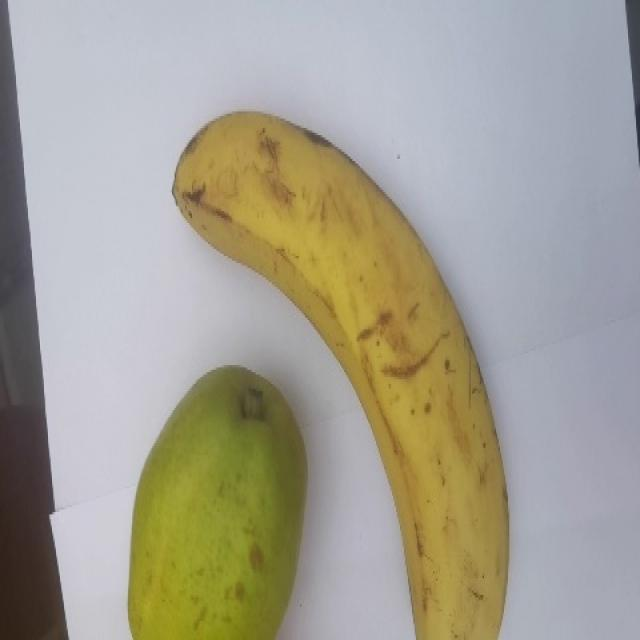Banana: (170, 107, 510, 640)
